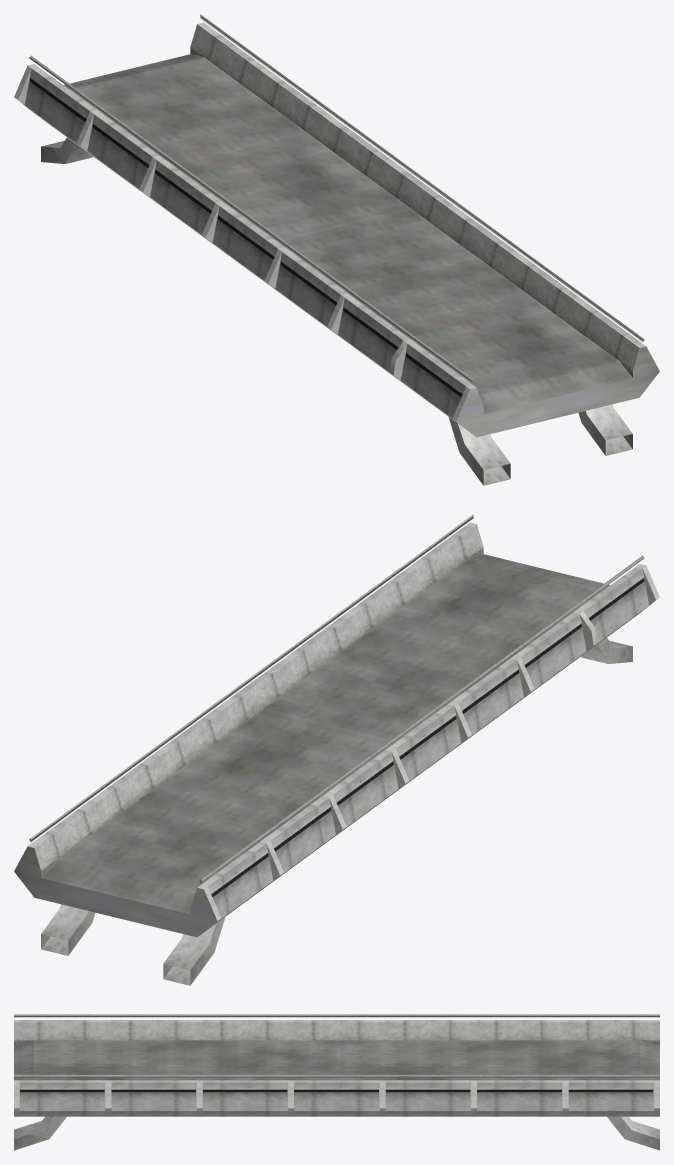
The model's file is thm_corl_imprv_bridge_lg_s01_l2.fbx.
3 views of the same model, one above another, from view 1: azimuth 30°, elevation 25°; view 2: azimuth 150°, elevation 25°; view 3: azimuth 270°, elevation 25° (orthographic). The views are drawn at different scales.
Parts seen in each view (by area): view 1: mesh_node; view 2: mesh_node; view 3: mesh_node.
Boxes of the visible parts, <box> form: mesh_node: <box>14,14,659,485</box>; mesh_node: <box>14,514,659,985</box>; mesh_node: <box>14,1014,659,1150</box>.
Bounding box in the file's own units: 7.5 × 3.84 × 28.25.
1 material, 1 textured.
